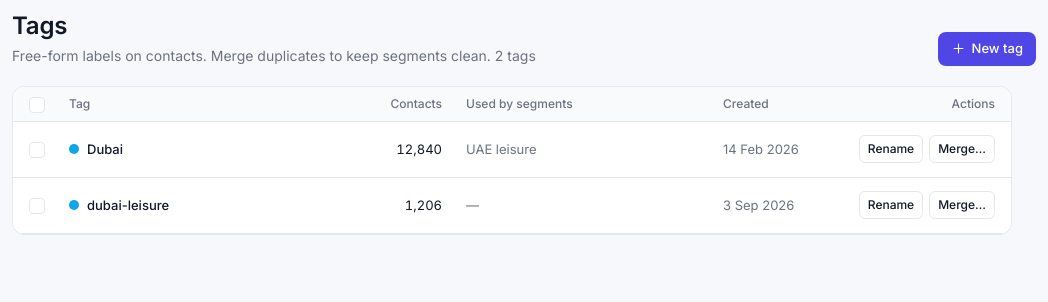
Test: tags › will not merge until two tags are selected, and says so
What coordinates should you click on to do the following:
click the checkbox named "Select Dubai"
I would click on:
 (37, 150)
Its box is [29,142,45,158].
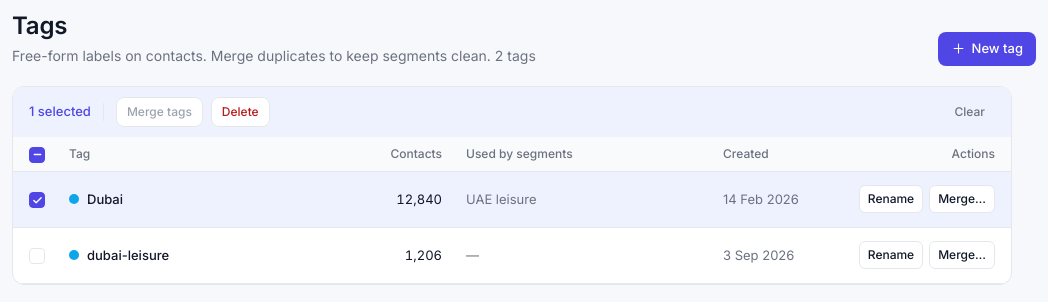
Check: the button "Merge tags" is disabled, box [116,97,203,127]
What coordinates should you click on to do the following:
click the checkbox named "Select dubai-leisure"
I would click on:
 (37, 256)
Its box is [29,248,45,264].
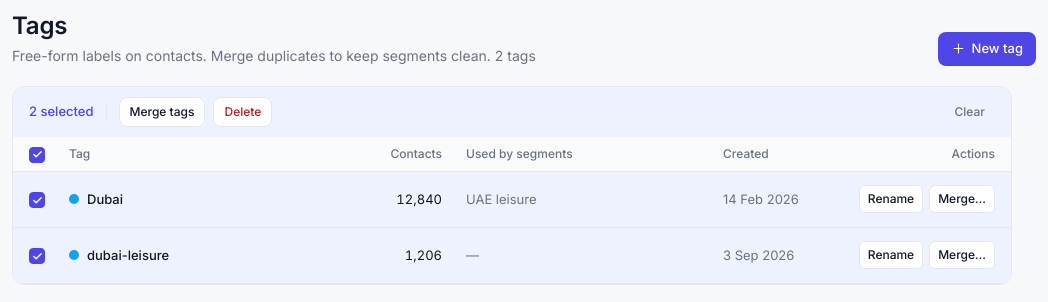
Check: the button "Merge tags" is enabled, box [118,97,206,127]
